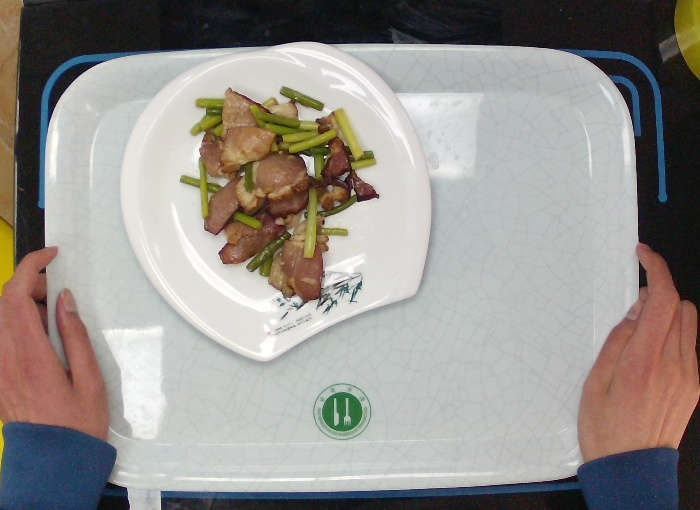JYsf-Mian_Pan: (119, 39, 433, 362)
